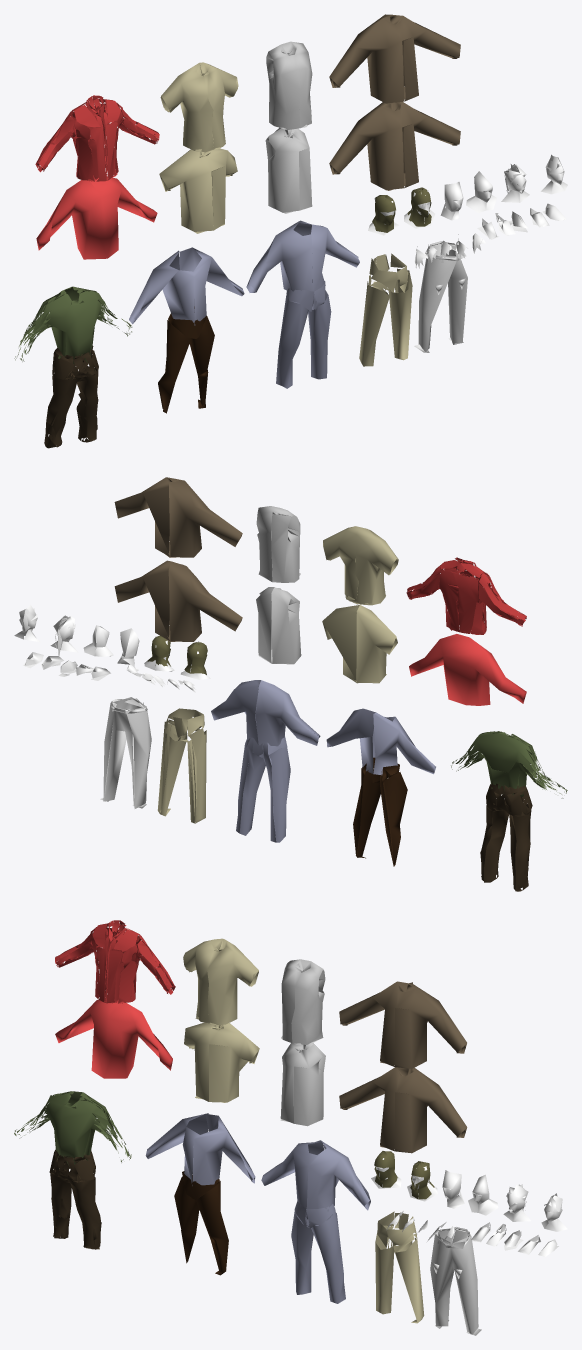
The model's file is SM_clothing_and_character_kit_1_0_cc0.glb.
The picture shows the model from 3 angles, top to bottom: view 1: azimuth 30°, elevation 25°; view 2: azimuth 150°, elevation 25°; view 3: azimuth 330°, elevation 25°; orthographic projection. The views are drawn at different scales.
Parts seen in each view (by area): view 1: SM_clothing_and_character_kit_1_0_cc0; view 2: SM_clothing_and_character_kit_1_0_cc0; view 3: SM_clothing_and_character_kit_1_0_cc0.
Part boxes in pixels (box(x1,y1,x2,y2)): SM_clothing_and_character_kit_1_0_cc0: box(14, 14, 567, 448); SM_clothing_and_character_kit_1_0_cc0: box(14, 477, 567, 891); SM_clothing_and_character_kit_1_0_cc0: box(14, 920, 567, 1335).
Bounding box in the file's own units: 281 × 166 × 29.42.
